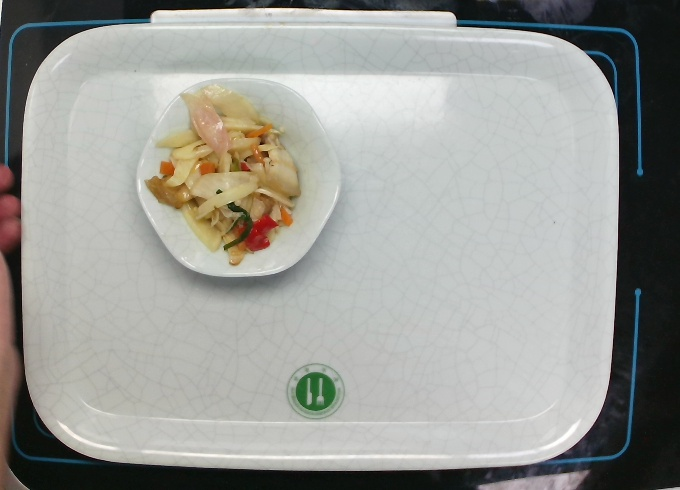WCQzf-Hua_Duo_Wan: (135, 69, 342, 283)
